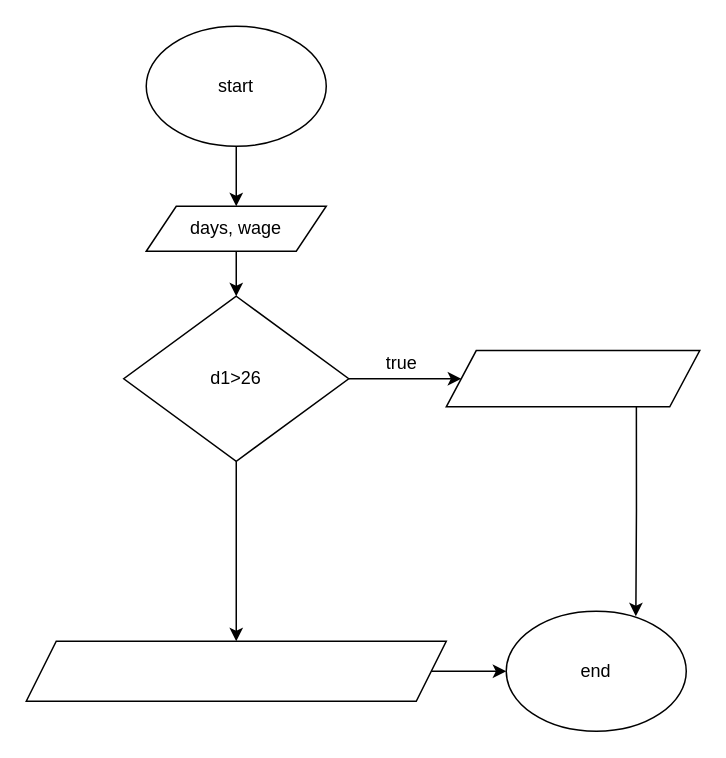
Some shapes in this 726 by 758 pixel diagram are drawn without their labels. The shapes that lost their labels are listed below. From the top down, each one's centre as x and y in pixels, then its label:
pixel 572 378: luong co du
pixel 235 670: luong
